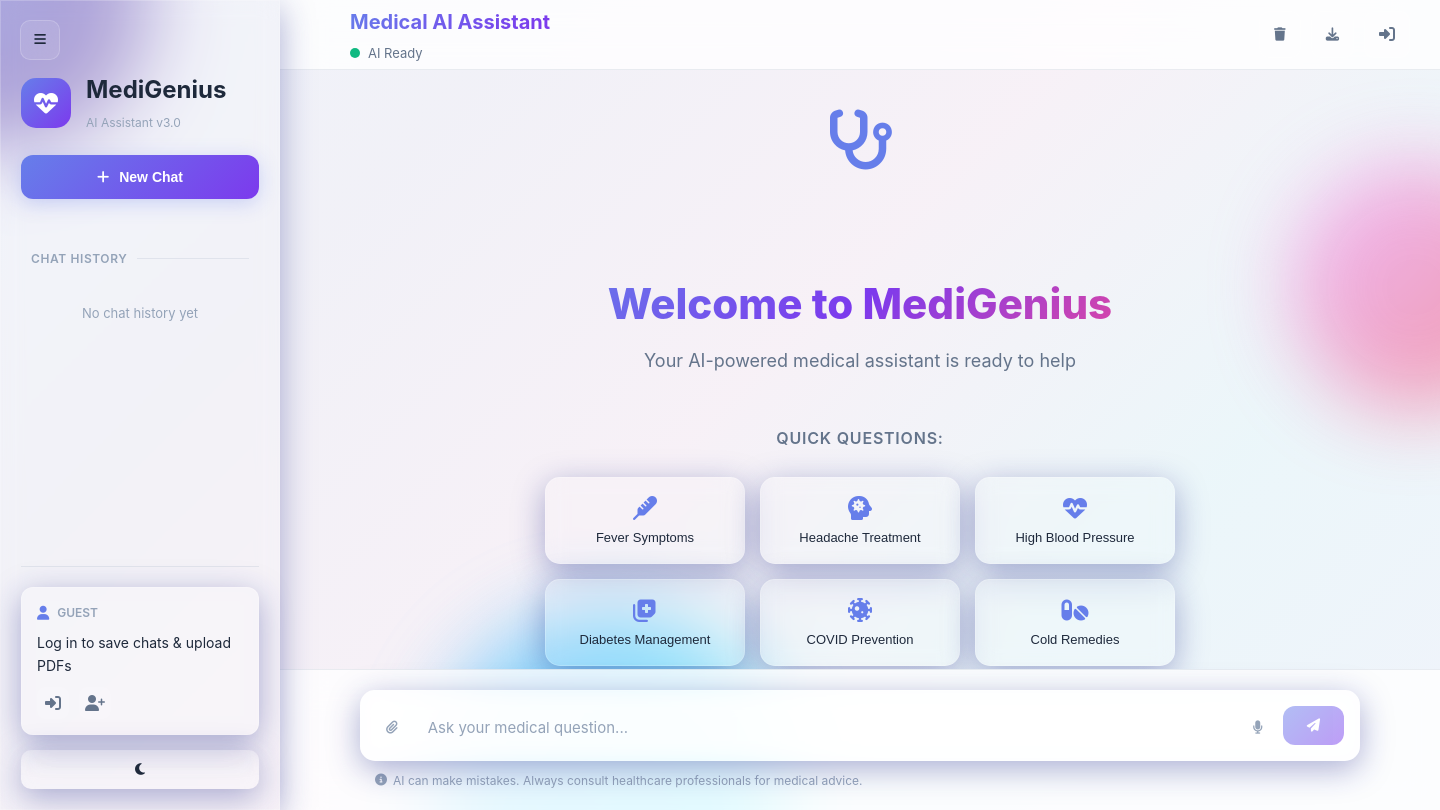
Scenario: App Integration › sends a message and displays response
The width and height of the screenshot is (1440, 810).
Step 1. Type "Headache" into the text box with placeholder "Ask your medical question..." → [825, 729], box x1=418 y1=712 x2=1233 y2=745
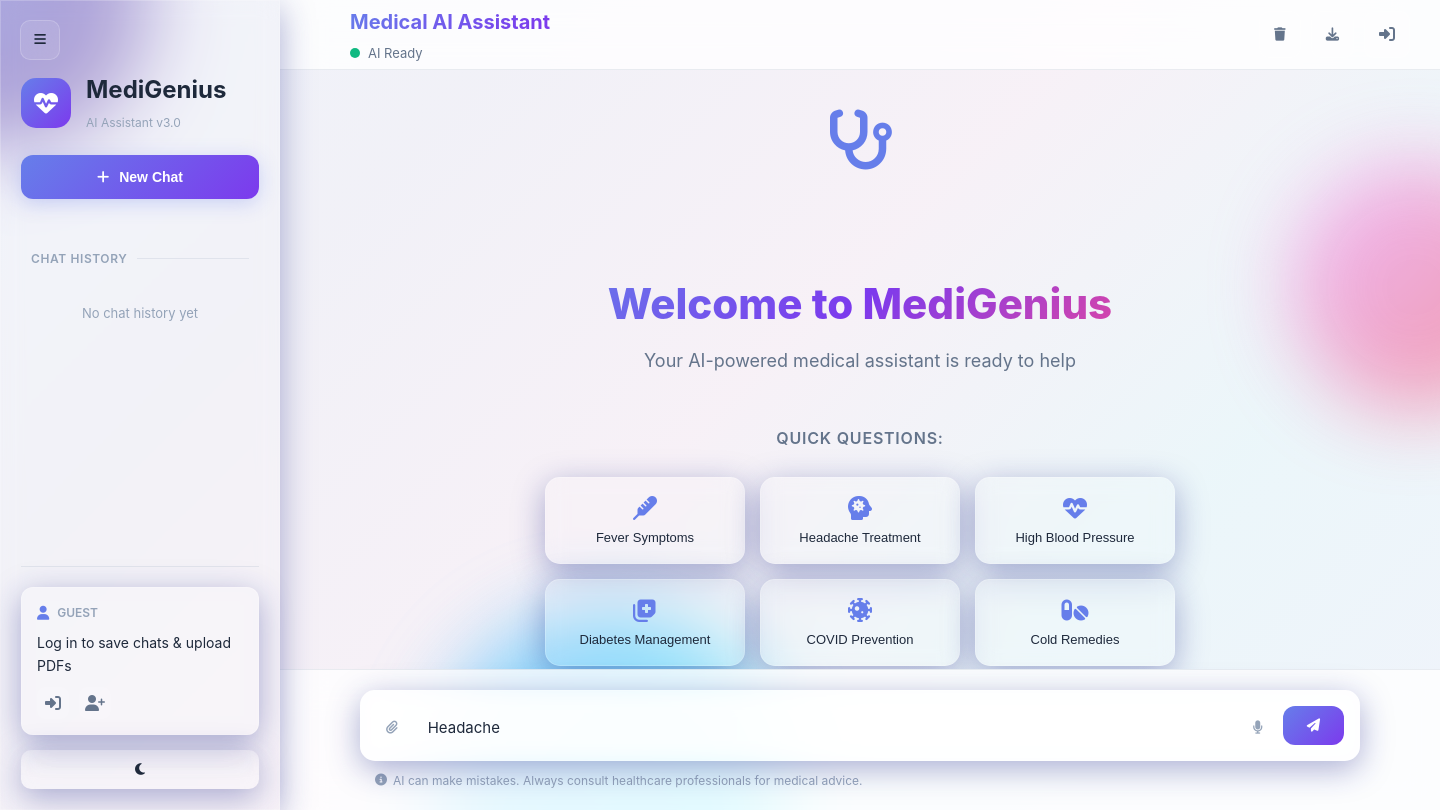
Step 2. Click the button named "Send message" → [1313, 725], box x1=1283 y1=706 x2=1344 y2=745
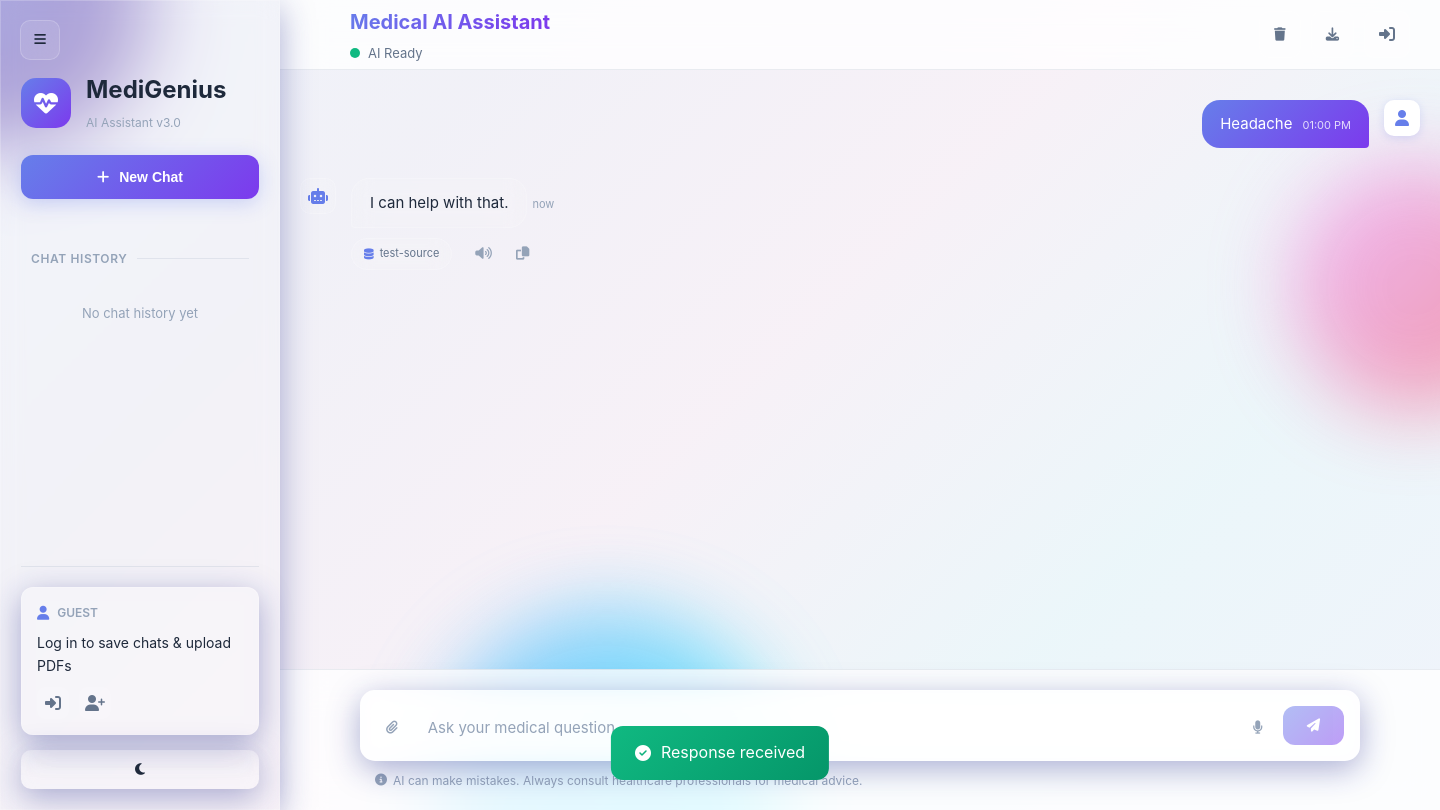
Expected: the text "Headache" is shown, x1=1220 y1=114 x2=1292 y2=133
Expected: the text "I can help with that." is shown, x1=370 y1=191 x2=508 y2=215
